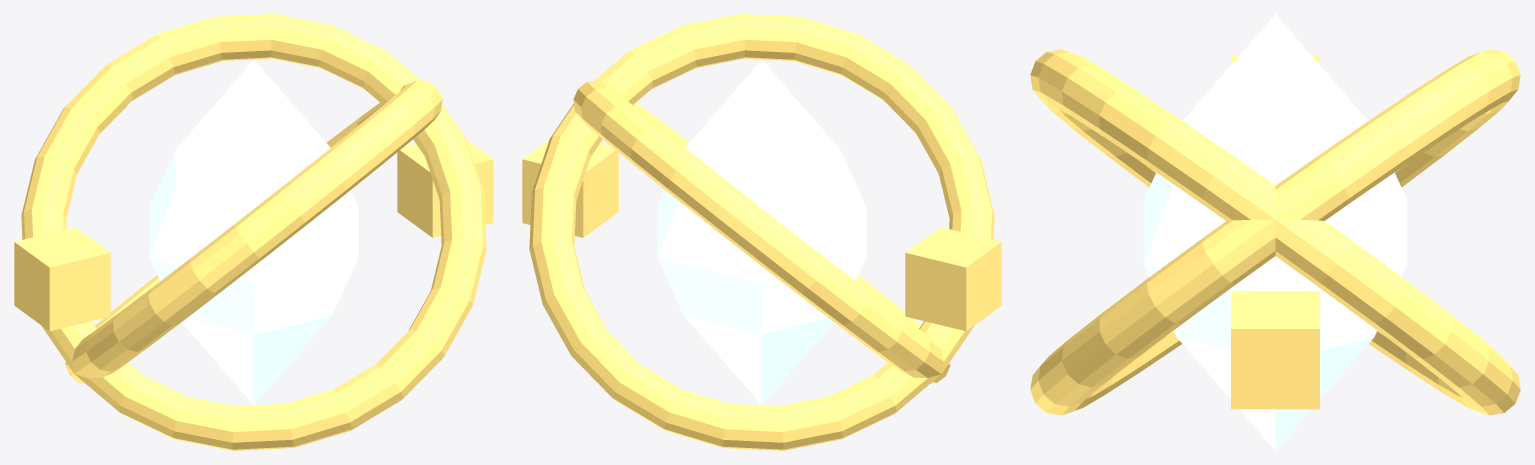
The model's file is powerup_core.glb.
3 renders of one model, left to right at view 1: azimuth 30°, elevation 25°; view 2: azimuth 150°, elevation 25°; view 3: azimuth 270°, elevation 25°, orthographic. The views are drawn at different scales.
Visible parts, largest first — view 1: PowerUpGyroRings, PowerUpCoreCrystal; view 2: PowerUpGyroRings, PowerUpCoreCrystal; view 3: PowerUpGyroRings, PowerUpCoreCrystal.
Part boxes in pixels (x1,y1,x2,y2): PowerUpGyroRings: [14, 14, 493, 450]; PowerUpCoreCrystal: [149, 60, 358, 404]; PowerUpGyroRings: [522, 14, 1001, 450]; PowerUpCoreCrystal: [657, 60, 866, 404]; PowerUpGyroRings: [1030, 49, 1520, 415]; PowerUpCoreCrystal: [1143, 14, 1407, 450].
Size of the model in its own units: 1.02 by 0.76 by 0.7732.
